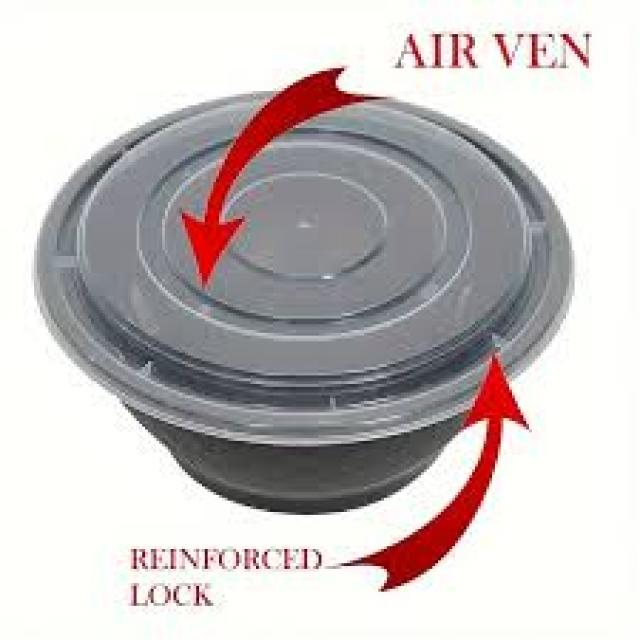disposable: (57, 70, 582, 538)
